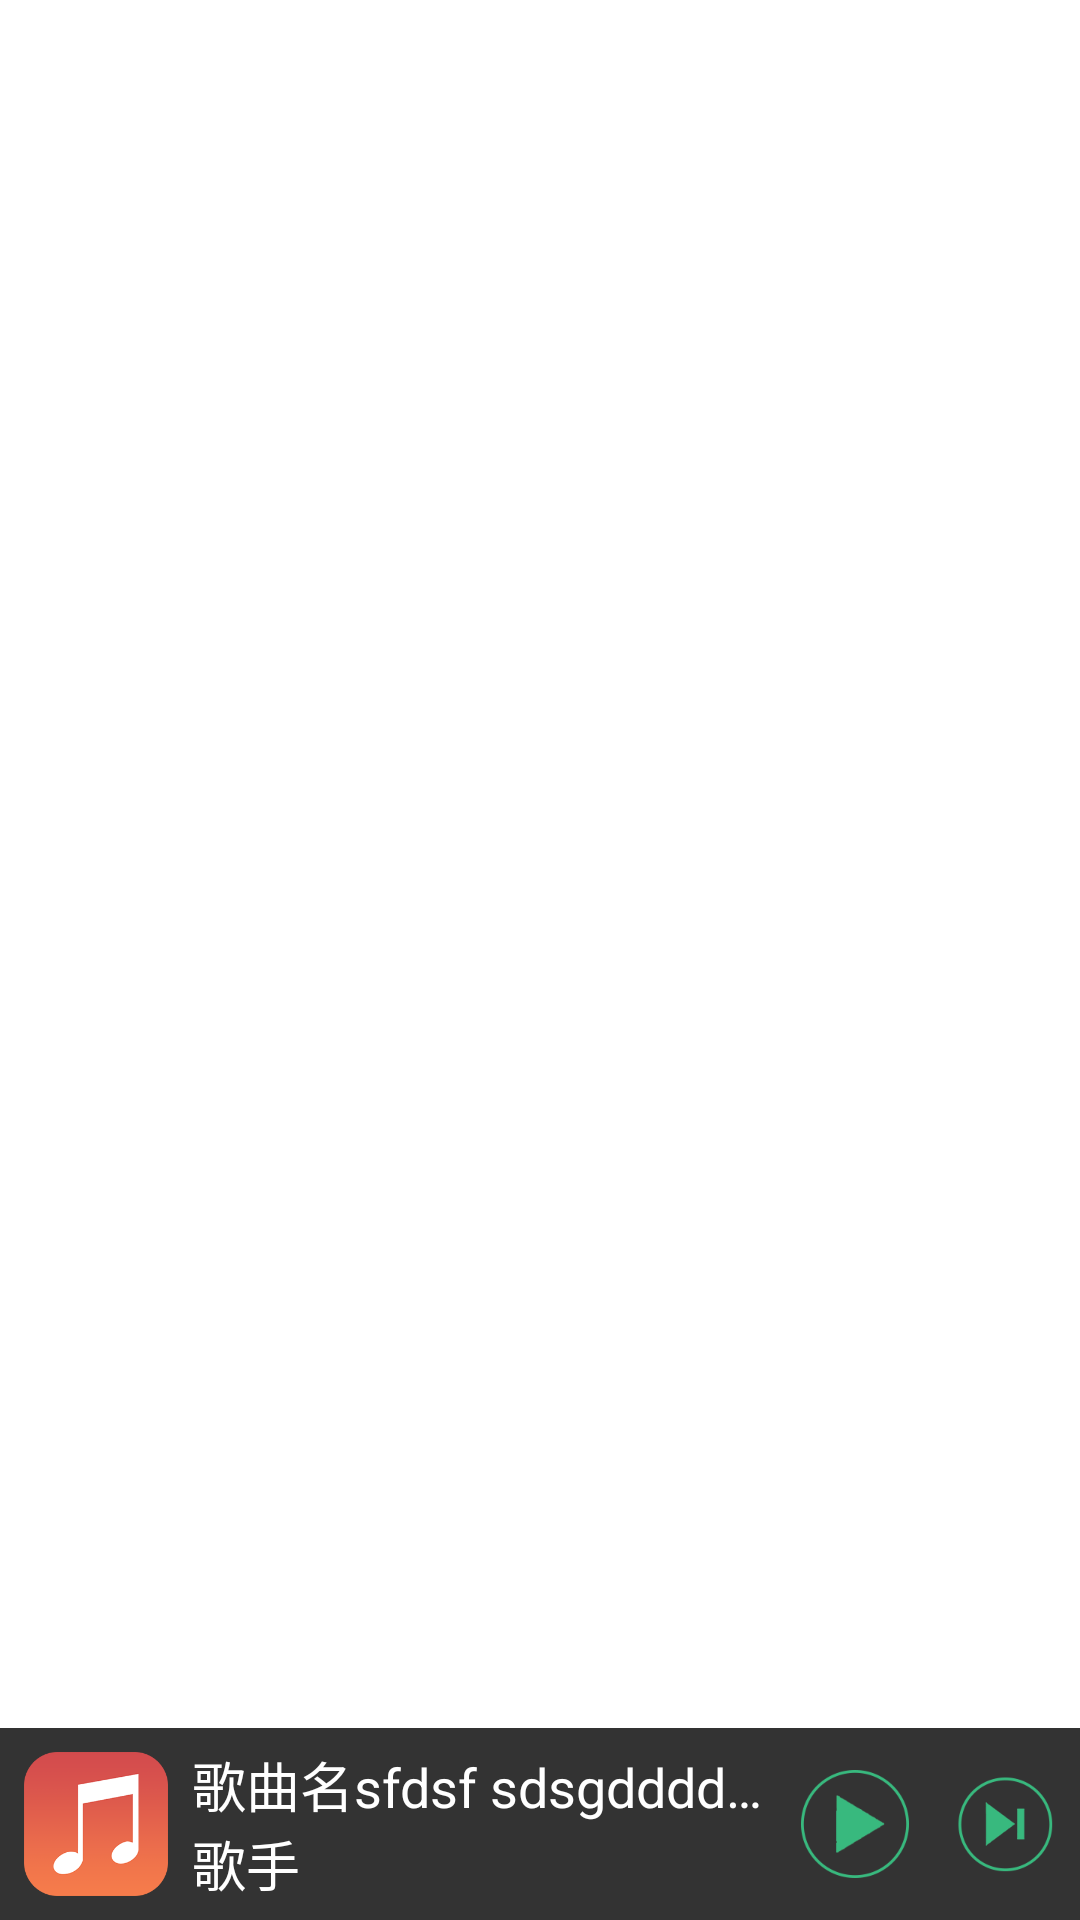

Locate icon controls on the screen. Image size 1080×1920, boxes as [left=x1, top=y1, right=x2, bottom=y2].
play: [left=801, top=1770, right=909, bottom=1878]
play next: [left=958, top=1777, right=1052, bottom=1871]
